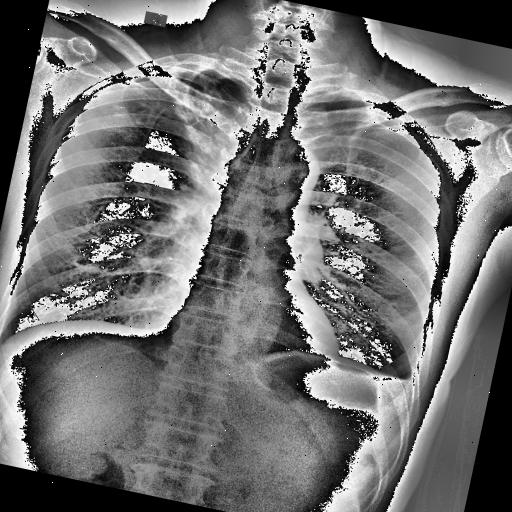10- Pleural effusion: (361, 358, 422, 398), (392, 350, 424, 400), (384, 360, 420, 392)
11- Pleural thickening: (160, 56, 228, 84), (392, 350, 424, 400), (384, 360, 420, 392), (301, 80, 347, 104)
13- Pulmonary fibrosis: (108, 54, 230, 146), (154, 77, 241, 195), (121, 76, 223, 154), (110, 87, 166, 130)
7- Lung Opacity: (154, 77, 241, 195)
